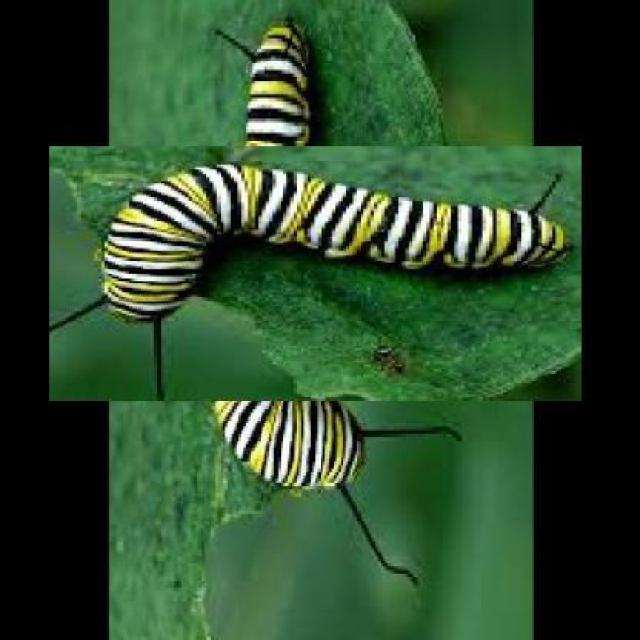Plaga: (119, 78, 514, 473)
